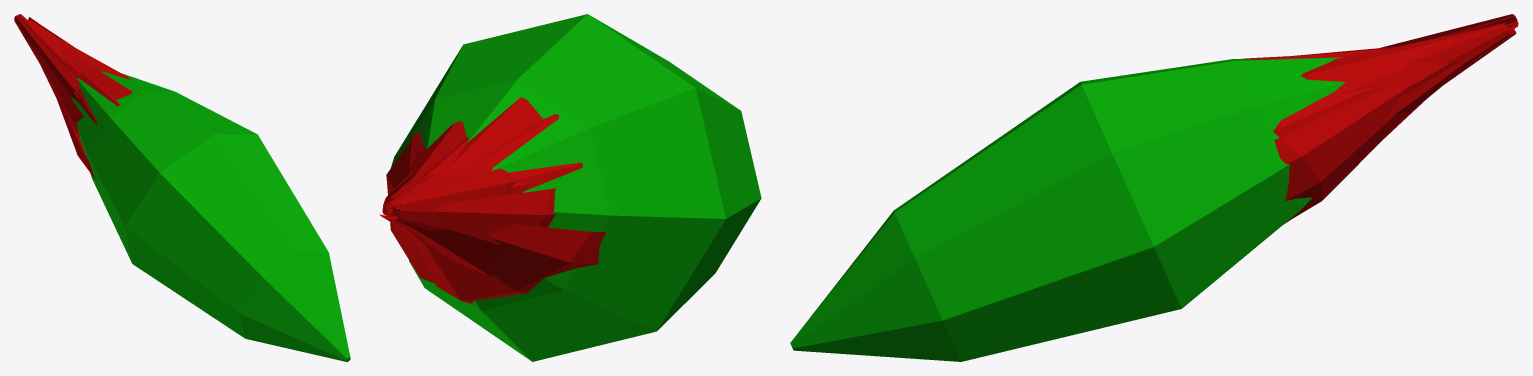
The model's file is rose.glb.
The picture shows the model from 3 angles, left to right: view 1: azimuth 30°, elevation 25°; view 2: azimuth 150°, elevation 25°; view 3: azimuth 270°, elevation 25°; orthographic projection. The views are drawn at different scales.
Parts seen in each view (by area): view 1: Shape_Extrusion, Shape_Extrusion.016, Shape_Extrusion.012, Shape_Extrusion.006, Shape_Extrusion.013, Shape_Extrusion.005, Shape_Extrusion.008, Shape_Extrusion.009, Shape_Extrusion.010; view 2: Shape_Extrusion, Shape_Extrusion.008, Shape_Extrusion.012, Shape_Extrusion.016, Shape_Extrusion.006, Shape_Extrusion.005, Shape_Extrusion.010, Shape_Extrusion.007, Shape_Extrusion.009, Shape_Extrusion.013; view 3: Shape_Extrusion, Shape_Extrusion.007, Shape_Extrusion.010, Shape_Extrusion.006, Shape_Extrusion.014, Shape_Extrusion.011, Shape_Extrusion.016.
Boxes of the visible parts, left/top/right/bottom form: Shape_Extrusion: left=71, top=70, right=350, bottom=361; Shape_Extrusion.016: left=14, top=15, right=79, bottom=97; Shape_Extrusion.012: left=32, top=44, right=84, bottom=136; Shape_Extrusion.006: left=65, top=57, right=132, bottom=99; Shape_Extrusion.013: left=27, top=20, right=70, bottom=68; Shape_Extrusion.005: left=77, top=69, right=120, bottom=124; Shape_Extrusion.008: left=54, top=93, right=95, bottom=179; Shape_Extrusion.009: left=58, top=41, right=104, bottom=102; Shape_Extrusion.010: left=43, top=30, right=130, bottom=79; Shape_Extrusion: left=390, top=14, right=761, bottom=361; Shape_Extrusion.008: left=414, top=224, right=606, bottom=303; Shape_Extrusion.012: left=406, top=188, right=555, bottom=277; Shape_Extrusion.016: left=397, top=168, right=516, bottom=231; Shape_Extrusion.006: left=402, top=97, right=544, bottom=179; Shape_Extrusion.005: left=475, top=114, right=582, bottom=190; Shape_Extrusion.010: left=405, top=121, right=466, bottom=189; Shape_Extrusion.007: left=386, top=143, right=434, bottom=283; Shape_Extrusion.009: left=418, top=137, right=531, bottom=194; Shape_Extrusion.013: left=388, top=173, right=474, bottom=199; Shape_Extrusion: left=790, top=57, right=1345, bottom=361; Shape_Extrusion.007: left=1274, top=74, right=1415, bottom=222; Shape_Extrusion.010: left=1301, top=32, right=1469, bottom=94; Shape_Extrusion.006: left=1252, top=46, right=1399, bottom=137; Shape_Extrusion.014: left=1404, top=24, right=1509, bottom=67; Shape_Extrusion.011: left=1383, top=48, right=1482, bottom=122; Shape_Extrusion.016: left=1380, top=14, right=1518, bottom=47.
Size of the model in its own units: 1.77 by 2.2 by 4.9.
